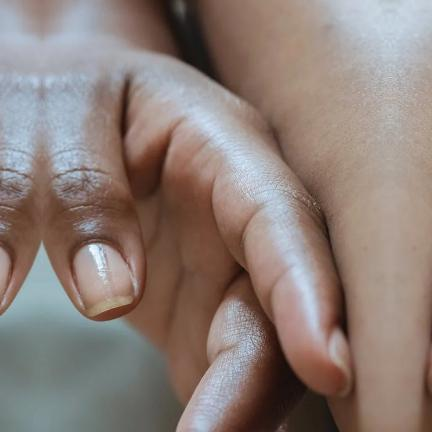Nail: (71, 243, 134, 318), (328, 327, 352, 385), (0, 247, 11, 308), (427, 343, 432, 385)
